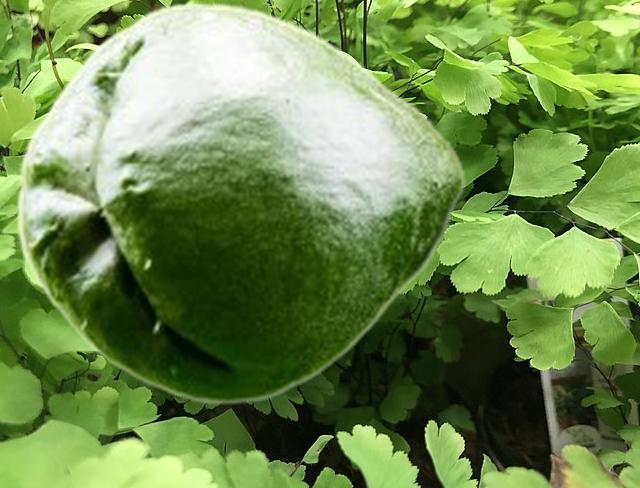sayote: (15, 1, 465, 404)
